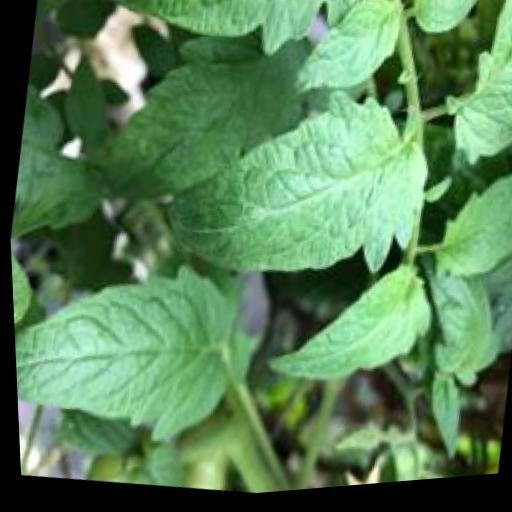Healthy: (152, 65, 441, 301), (9, 233, 251, 469), (252, 245, 441, 409), (289, 0, 411, 113), (429, 159, 512, 291)
